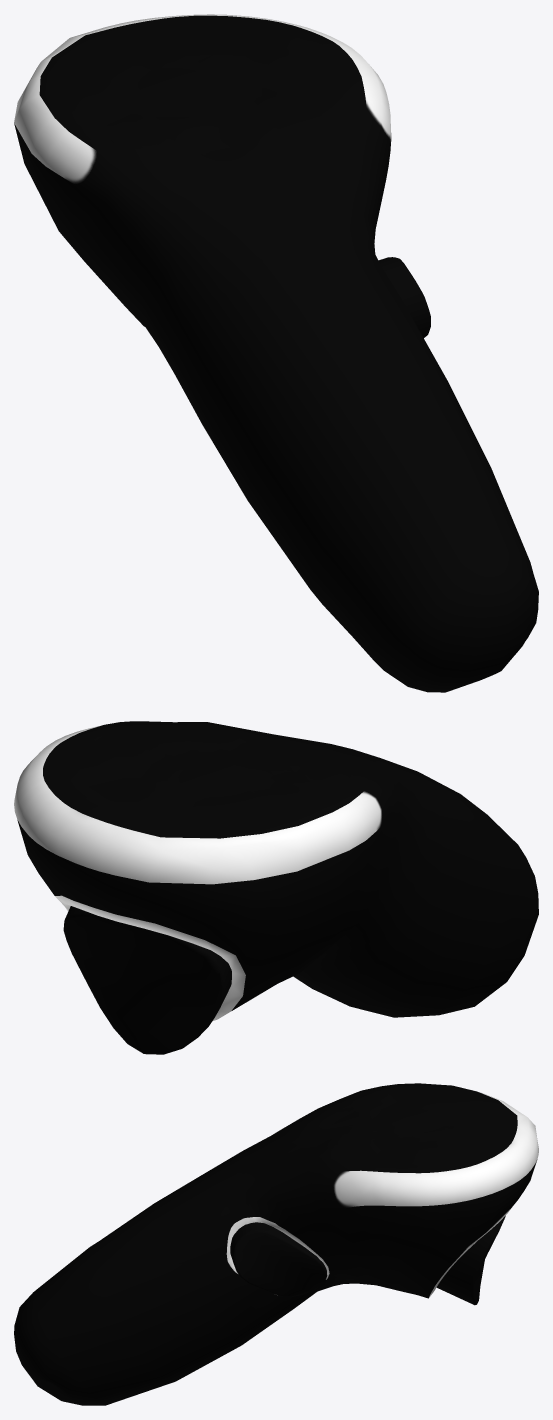
The model's file is Phoenix_L.fbx.
3 renders of one model, top to bottom at view 1: azimuth 30°, elevation 25°; view 2: azimuth 150°, elevation 25°; view 3: azimuth 270°, elevation 25°, orthographic. The views are drawn at different scales.
Visible parts, largest first — view 1: LBody, LGrip; view 2: LBody, LTrigger; view 3: LBody, LGrip, LTrigger.
Part boxes in pixels (bbox=[...]): LBody: bbox=[14, 14, 538, 692]; LGrip: bbox=[378, 257, 430, 337]; LBody: bbox=[14, 721, 538, 1021]; LTrigger: bbox=[63, 906, 231, 1054]; LBody: bbox=[14, 1083, 538, 1405]; LGrip: bbox=[230, 1222, 327, 1296]; LTrigger: bbox=[436, 1215, 505, 1305].
Bounding box in the file's own units: 0.0581 × 0.0701 × 0.1203.
